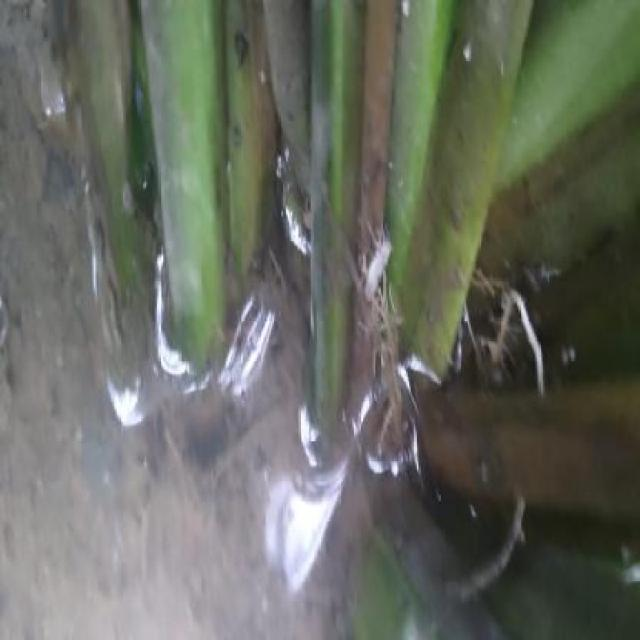wereng pada daun padi: (343, 210, 406, 309)
